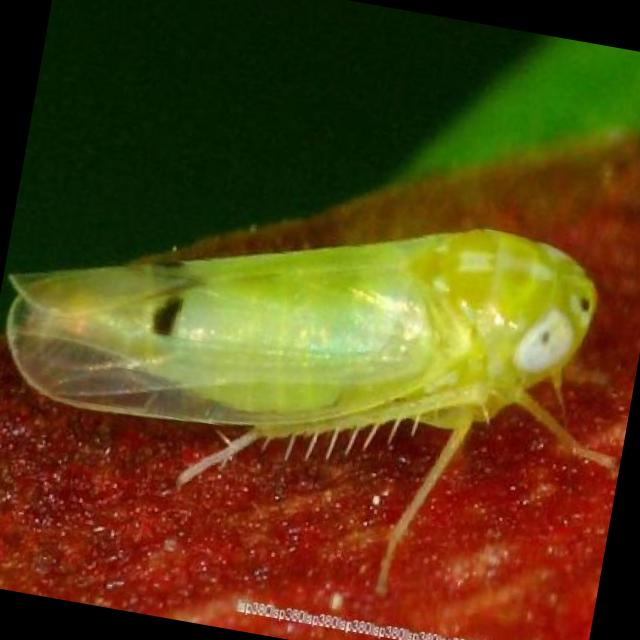green-leafhopper: (6, 227, 618, 601)
